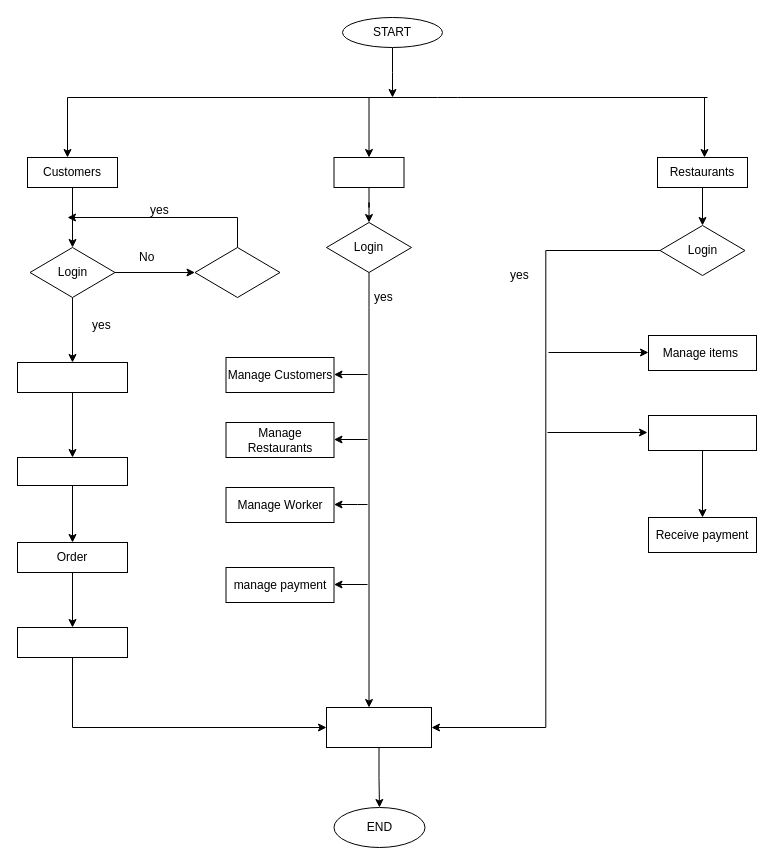
This 774x865 diagram has some shape labels left out. The shapes that lost their labels are listed below. From the top down, each one's centre as x and y in pixels, then its label:
At pixel 368 172: "Admin".
At pixel 237 272: "Reg".
At pixel 72 377: "Select Restaurant".
At pixel 702 432: "Receive Orders".
At pixel 72 471: "Food and Drink items".
At pixel 72 642: "Payment".
At pixel 379 727: "Log Out".
